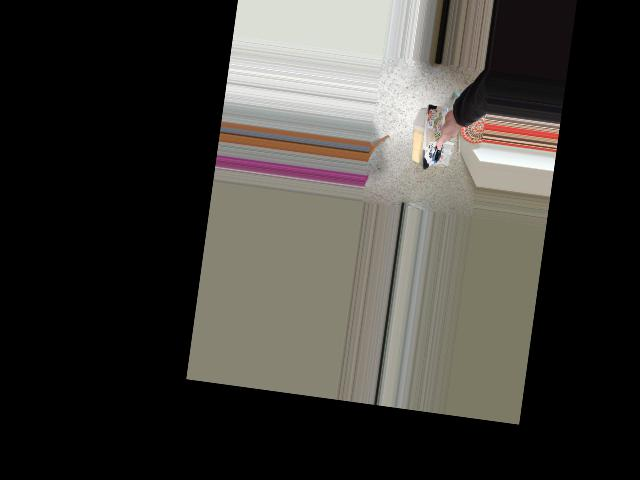cheese: (391, 92, 464, 175)
